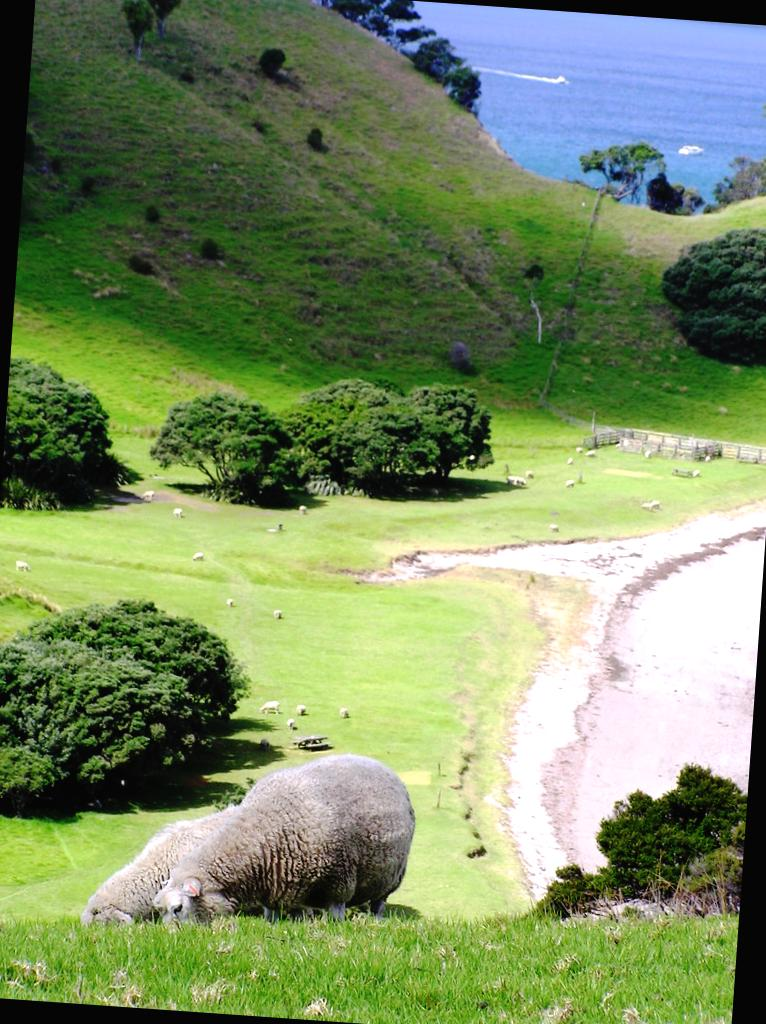Sheep: (149, 742, 420, 942), (76, 790, 239, 937)
